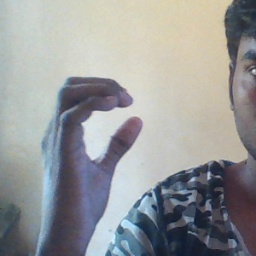C: (50, 70, 148, 179)
